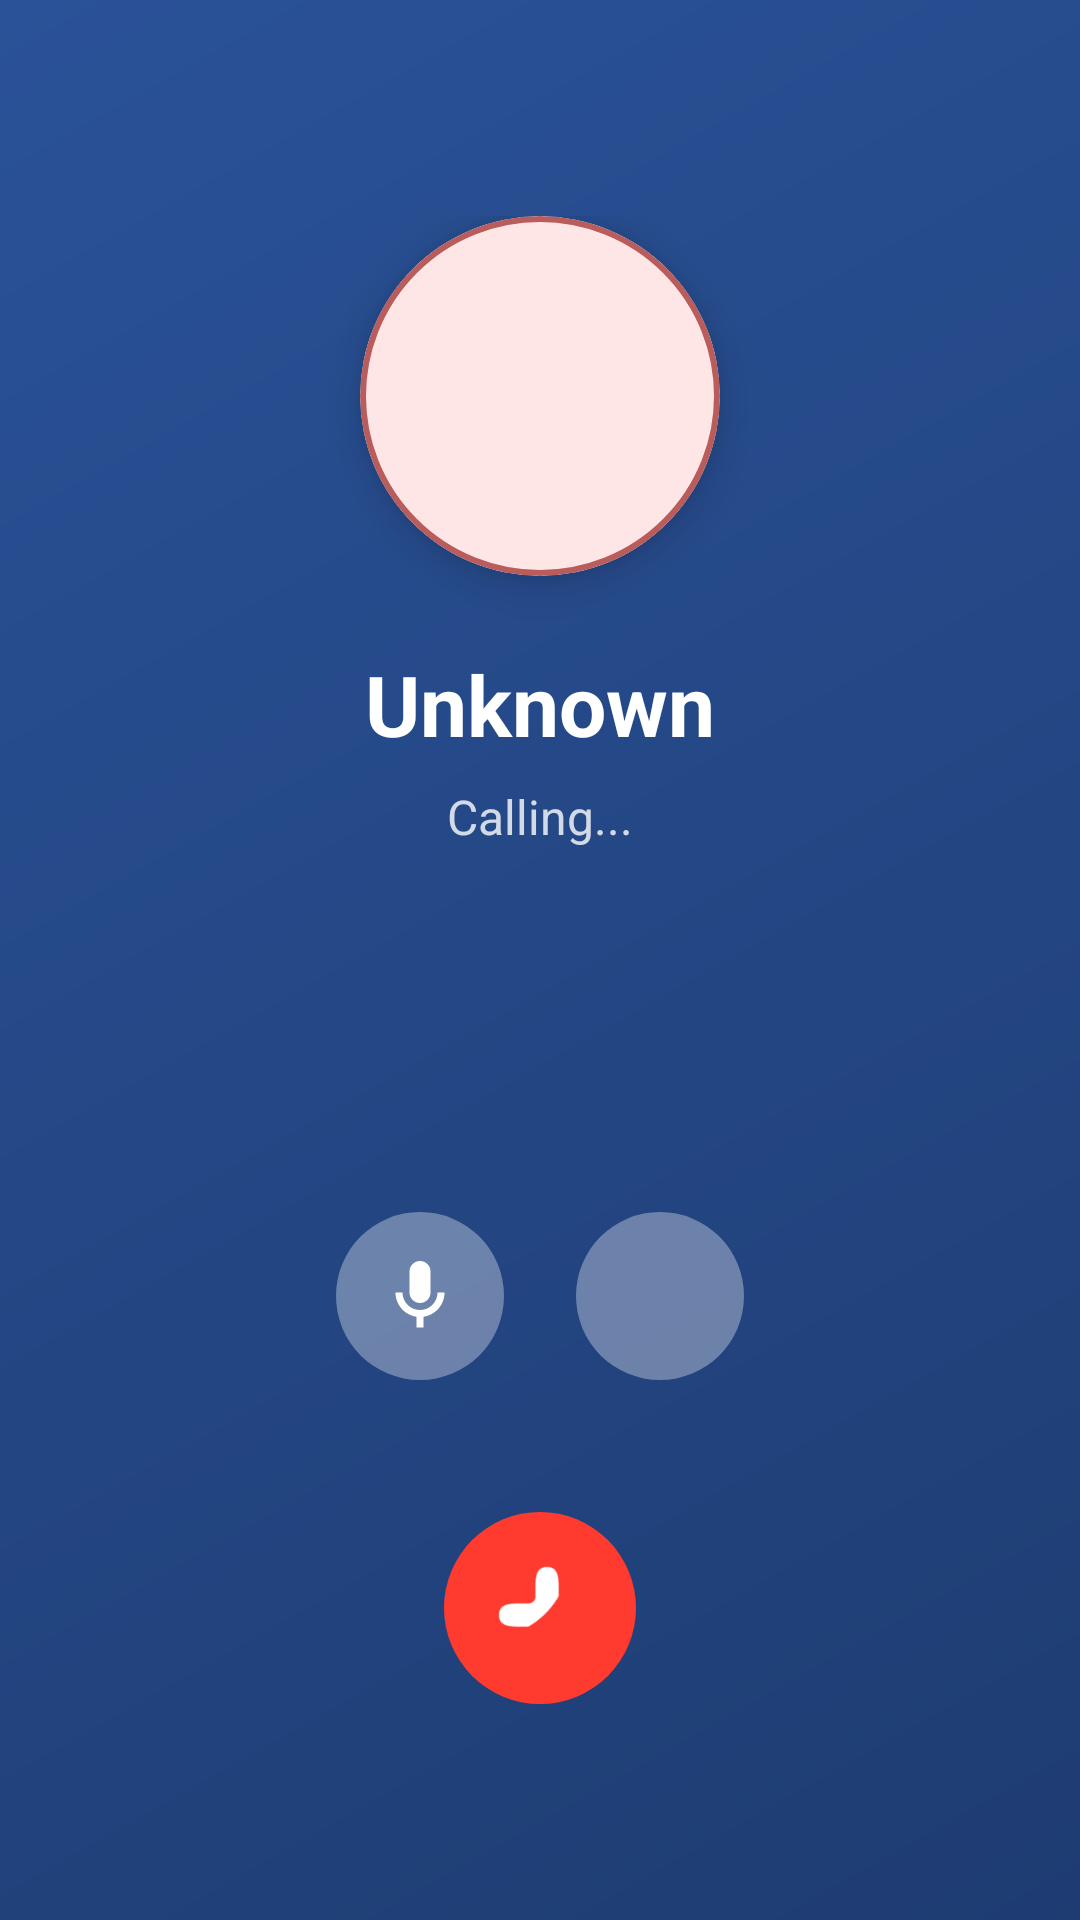

Screen size 1080 x 1920. Icon name, then its center in pixels as [x,y]:
mic: [420,1294]
